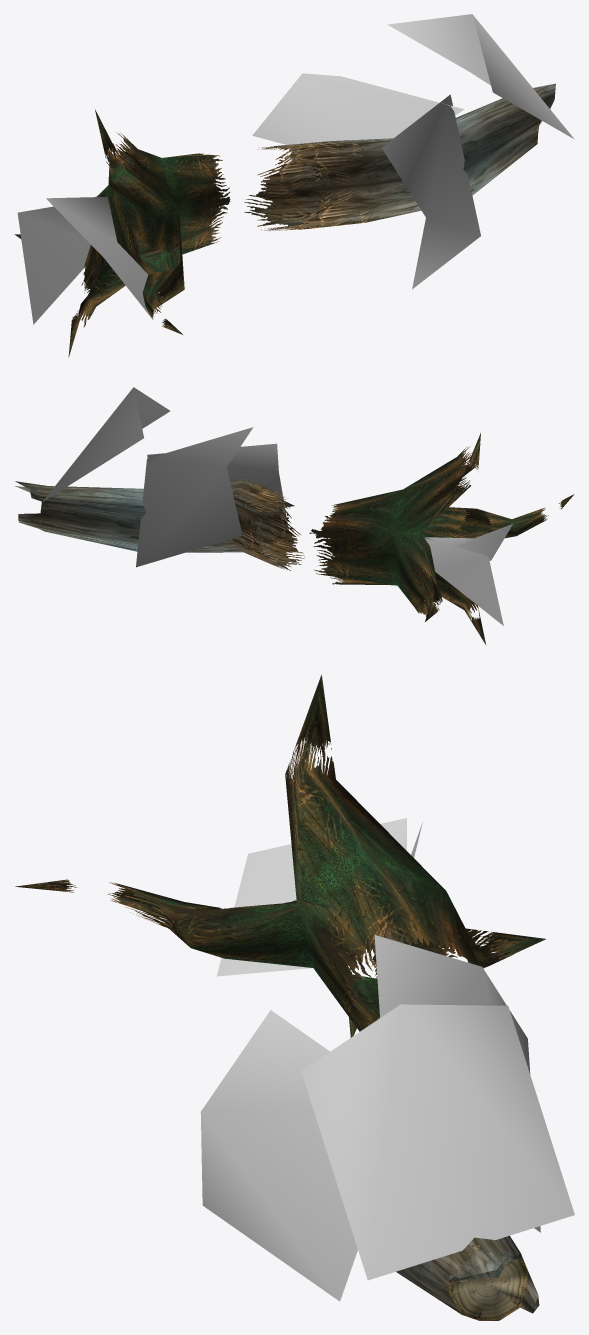
The model's file is silverpinetree02fallen.obj.
3 renders of one model, top to bottom at view 1: azimuth 30°, elevation 25°; view 2: azimuth 150°, elevation 25°; view 3: azimuth 270°, elevation 25°, orthographic. The views are drawn at different scales.
Visible parts, largest first — view 1: SILVERPINETREE02FALLEN2, SILVERPINETREE02FALLEN0; view 2: SILVERPINETREE02FALLEN0, SILVERPINETREE02FALLEN2; view 3: SILVERPINETREE02FALLEN2, SILVERPINETREE02FALLEN0, SILVERPINETREE02FALLEN1.
Boxes of the visible parts, bbox=[...] form: SILVERPINETREE02FALLEN2: bbox=[17, 14, 574, 324]; SILVERPINETREE02FALLEN0: bbox=[14, 83, 555, 357]; SILVERPINETREE02FALLEN0: bbox=[15, 433, 574, 645]; SILVERPINETREE02FALLEN2: bbox=[43, 387, 512, 625]; SILVERPINETREE02FALLEN2: bbox=[200, 818, 574, 1301]; SILVERPINETREE02FALLEN0: bbox=[15, 675, 545, 1314]; SILVERPINETREE02FALLEN1: bbox=[449, 1253, 528, 1320].
Bounding box in the file's own units: 42.25 × 18.17 × 24.33.
